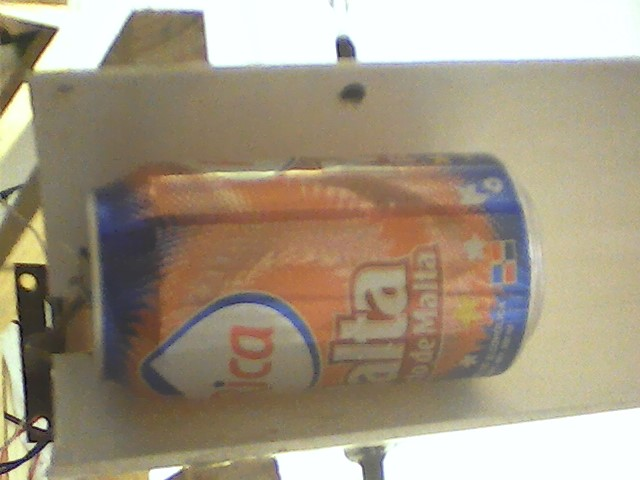lata: (87, 143, 553, 414)
